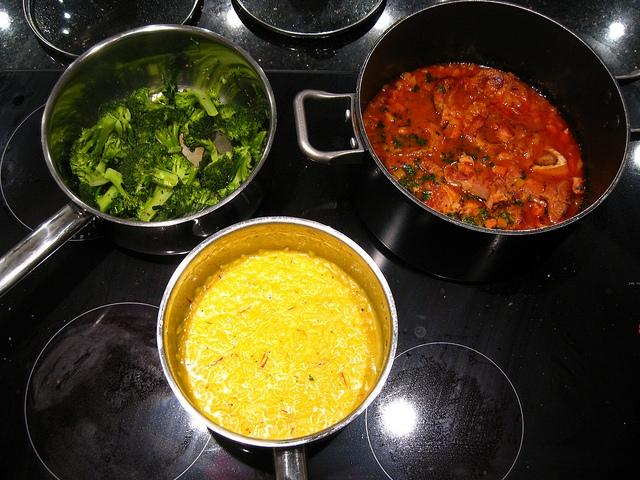broccoli: (137, 154, 190, 222), (120, 142, 178, 198), (136, 106, 188, 154), (69, 117, 117, 161), (218, 149, 252, 202), (127, 87, 175, 121), (225, 108, 266, 146), (104, 168, 139, 210), (68, 153, 109, 188), (174, 87, 218, 117), (202, 152, 232, 192), (102, 130, 134, 160), (94, 184, 122, 214), (190, 108, 214, 141), (212, 103, 240, 130), (248, 130, 268, 167), (78, 181, 102, 211), (98, 108, 123, 136), (172, 185, 195, 205), (194, 186, 212, 204), (187, 166, 200, 185), (161, 154, 173, 170)
